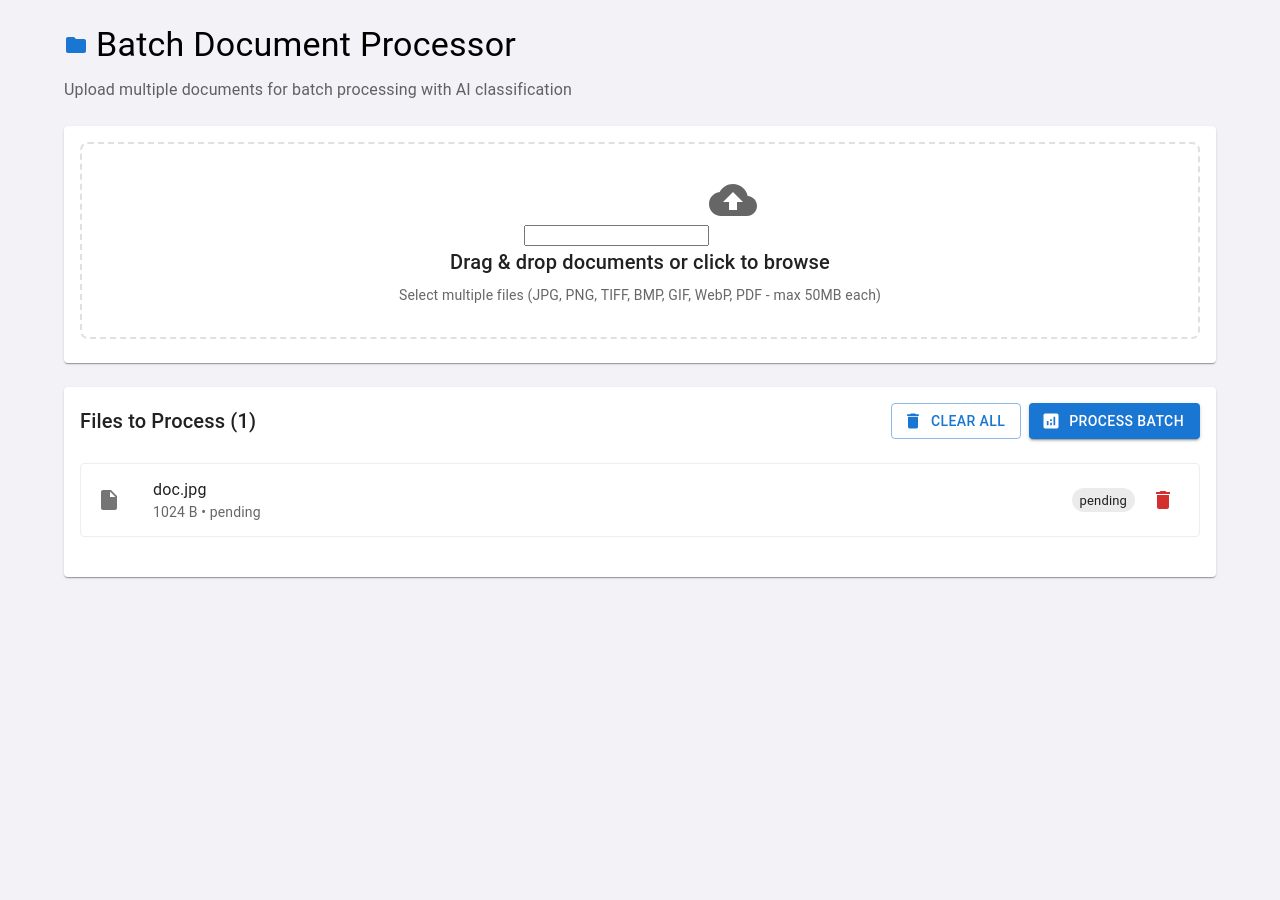
Test case: BatchProcessor › processing batch — success › shows summary stats (Total Documents, Successful, Failed) after processing
Click the button "Process Batch".
click(1115, 421)  # box [1029,403,1200,439]
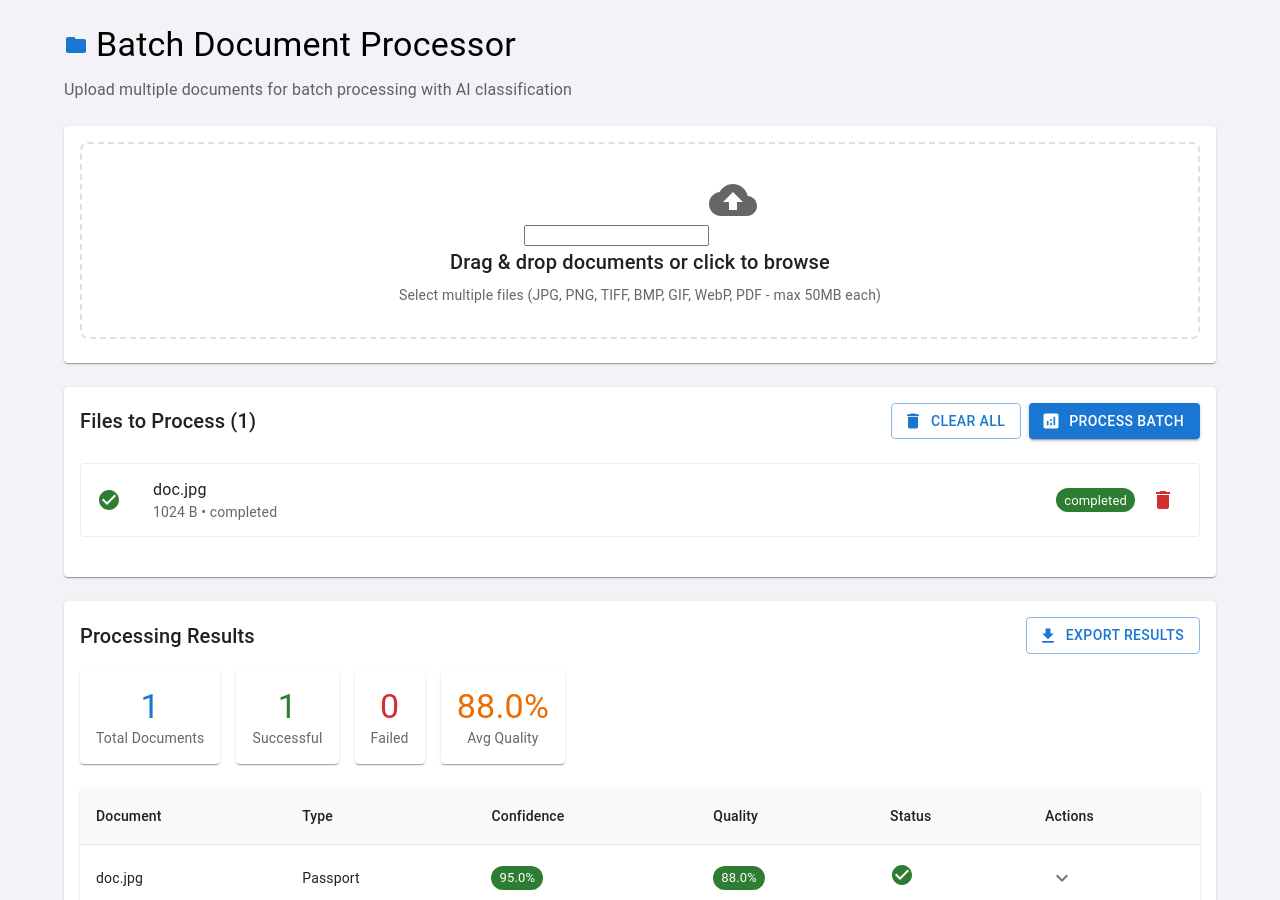
Now the text "Total Documents" is shown, box [96,728,204,748]
Now the text "Successful" is shown, box [252,728,323,748]
Now the text "Failed" is shown, box [370,728,409,748]
